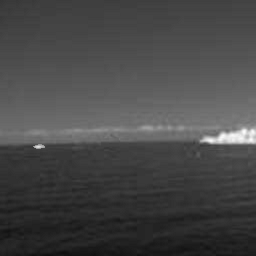Target: (33, 143, 46, 150)
